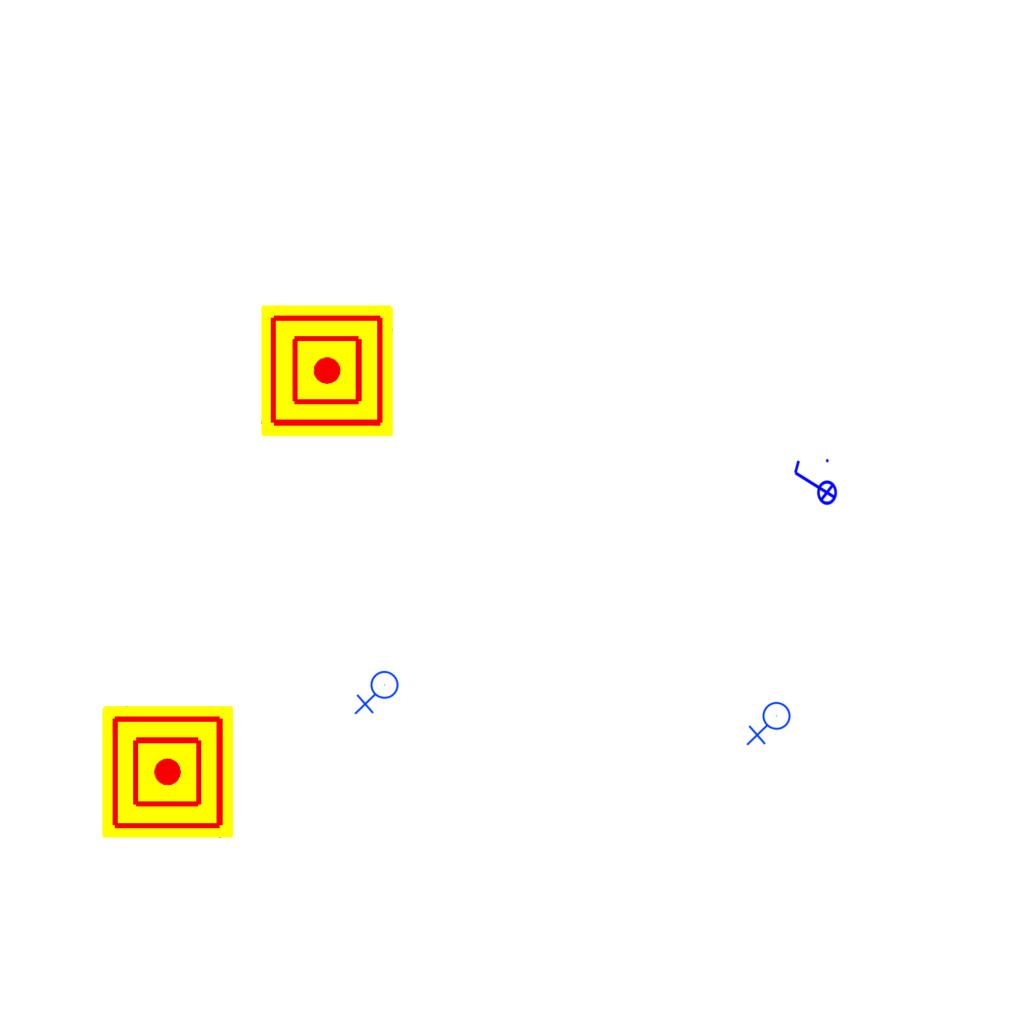Ausschalter_beleuchtet: (790, 456, 838, 512)
Elektroanschluss_allgemein_230V_Geraeteanschlussdose_230V: (354, 670, 403, 717), (746, 701, 795, 748)
NAM-Nichtautomatischer_Melder: (261, 305, 393, 437), (102, 706, 234, 838)
